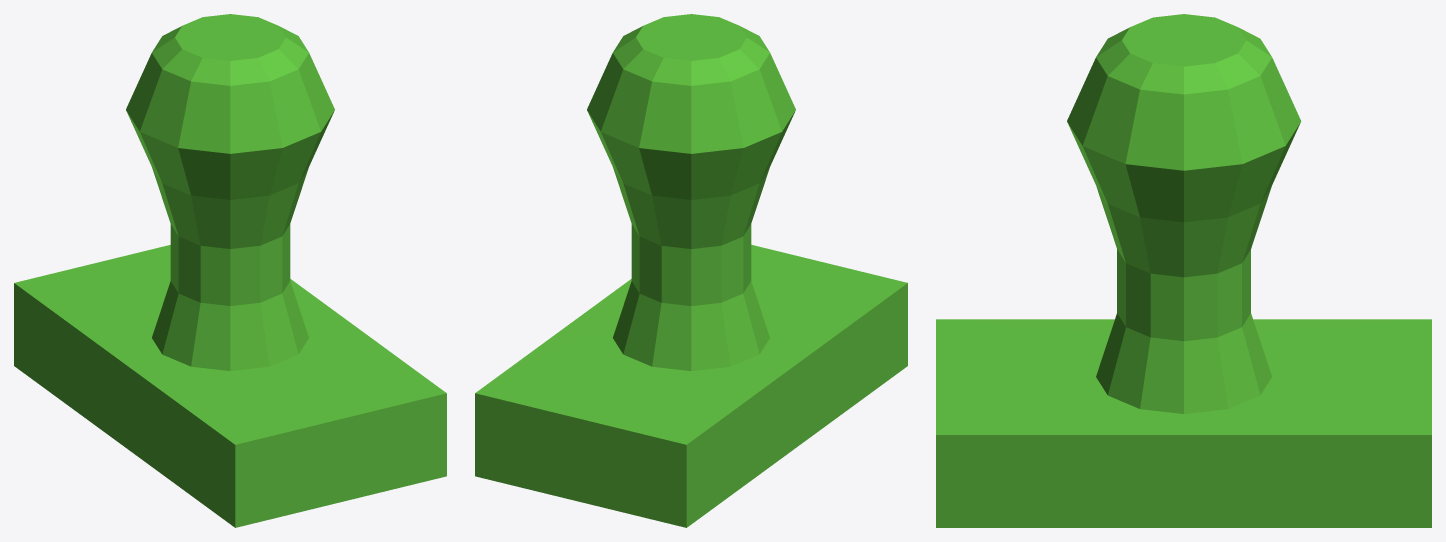
The model's file is GreenStamp.fbx.
The picture shows the model from 3 angles, left to right: view 1: azimuth 30°, elevation 25°; view 2: azimuth 150°, elevation 25°; view 3: azimuth 270°, elevation 25°; orthographic projection. The views are drawn at different scales.
Parts seen in each view (by area): view 1: stamp2; view 2: stamp2; view 3: stamp2.
Boxes of the visible parts, left/top/right/bottom form: stamp2: left=14, top=14, right=446, bottom=527; stamp2: left=475, top=14, right=907, bottom=527; stamp2: left=936, top=14, right=1431, bottom=527.
Size of the model in its own units: 155 by 269 by 281.
